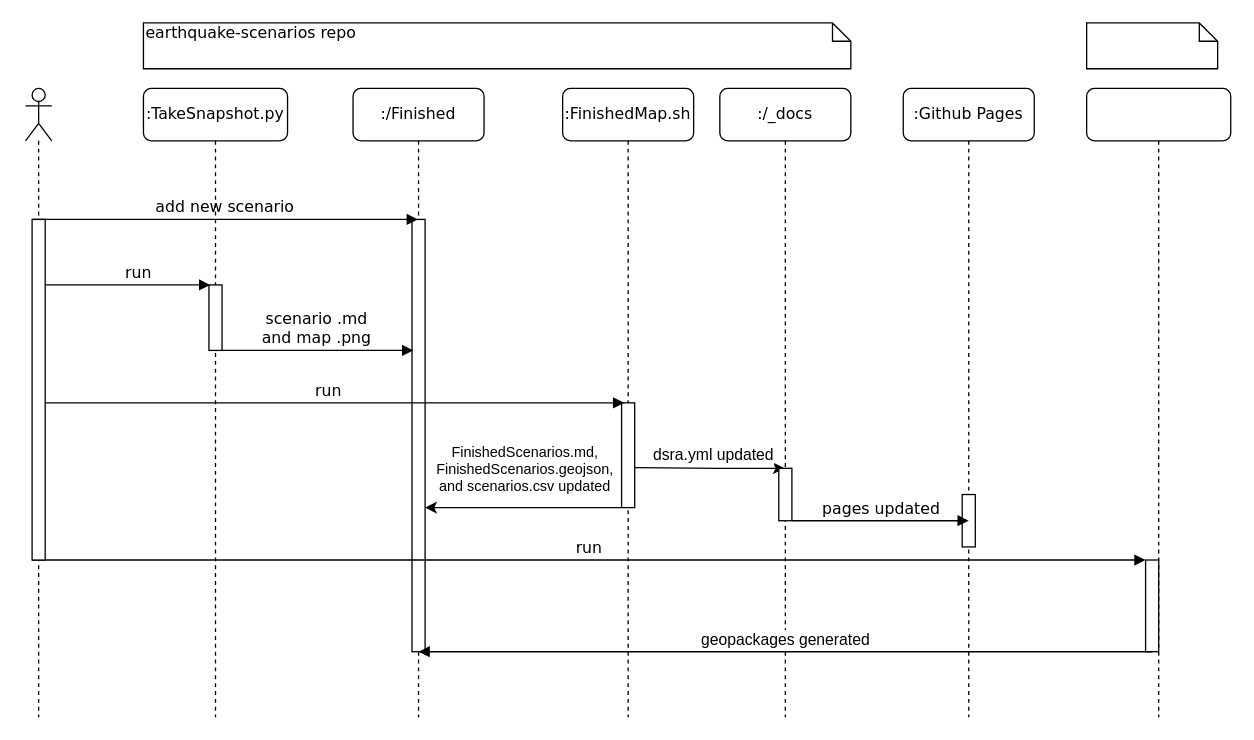
Image size: 1254x740. Some labels were removed from this diagram. The box of each missing label's shape, as (x1, y1, x2, y2) in pixels:
:dsra-geopackages.yml: (1085, 87, 1231, 717)
opendrr-api repo: (1085, 22, 1218, 69)
User: (24, 87, 52, 717)
